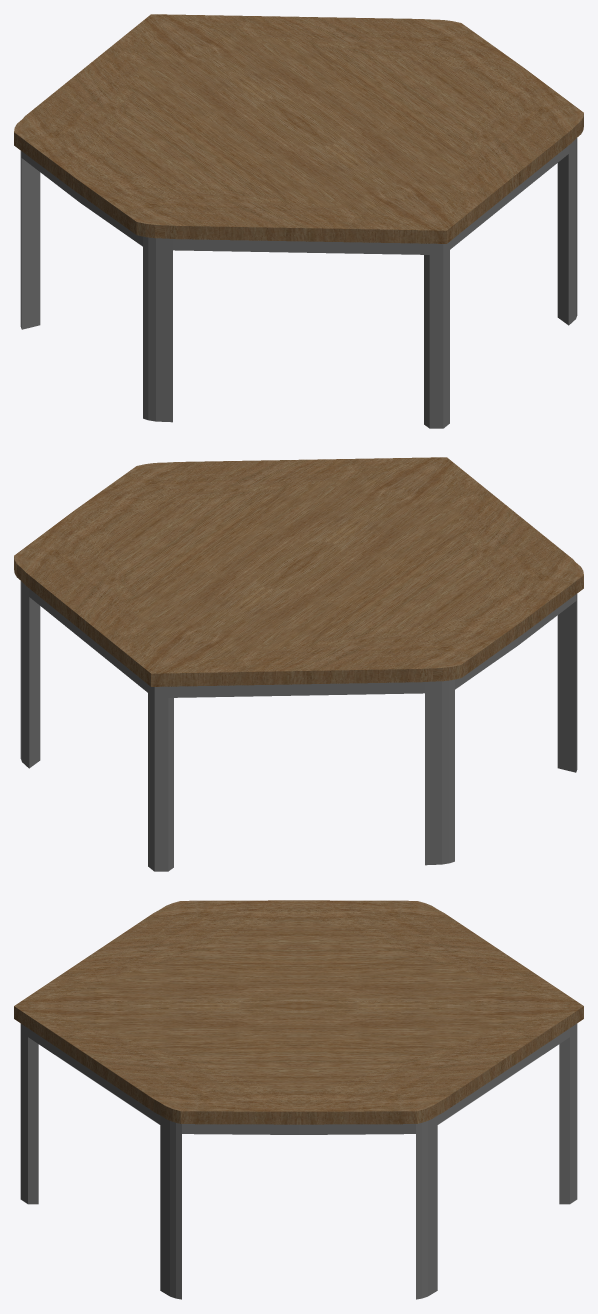
The model's file is table_hexacon.fbx.
The picture shows the model from 3 angles, top to bottom: view 1: azimuth 30°, elevation 25°; view 2: azimuth 150°, elevation 25°; view 3: azimuth 270°, elevation 25°; orthographic projection. The views are drawn at different scales.
Visible parts, largest first — view 1: Cube; view 2: Cube; view 3: Cube.
Part boxes in pixels (x1,y1,x2,y2): Cube: [14, 14, 583, 428]; Cube: [14, 457, 583, 871]; Cube: [14, 900, 583, 1299].
Size of the model in its own units: 789 by 337 by 899.
